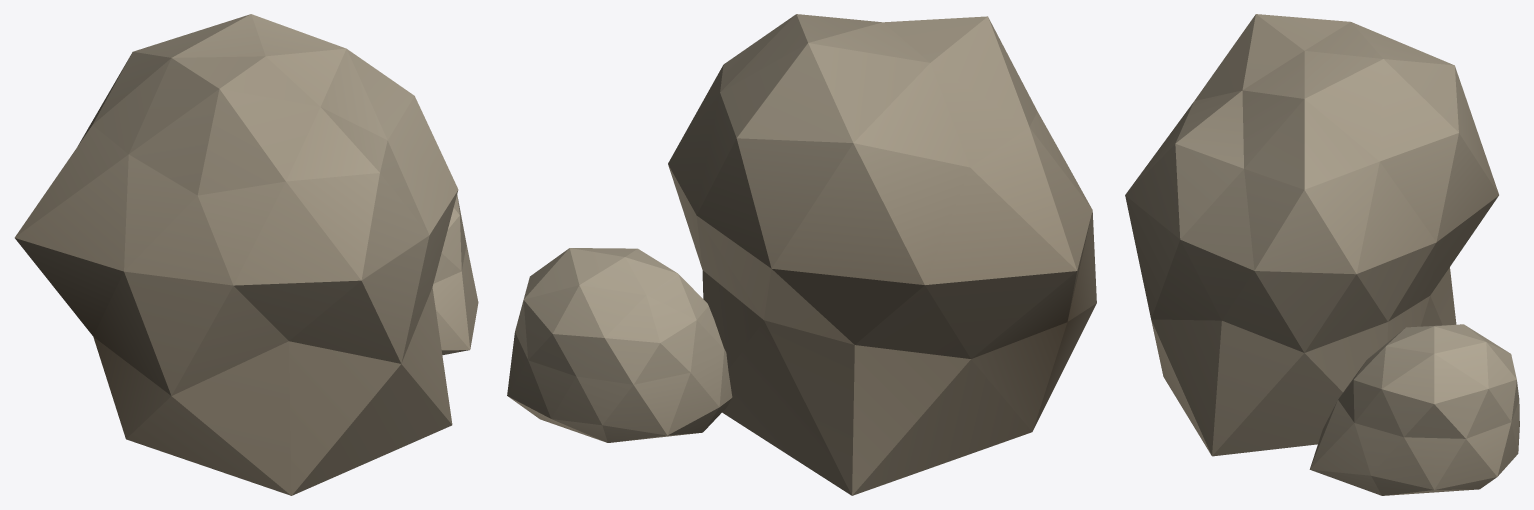
File: env_river_rock_river_dry_01.glb
3 renders of one model, left to right at view 1: azimuth 30°, elevation 25°; view 2: azimuth 150°, elevation 25°; view 3: azimuth 270°, elevation 25°, orthographic. The views are drawn at different scales.
Visible parts, largest first — view 1: rock_river_dry_01; view 2: rock_river_dry_01; view 3: rock_river_dry_01.
Boxes of the visible parts, left/top/right/bottom form: rock_river_dry_01: left=14, top=14, right=478, bottom=495; rock_river_dry_01: left=507, top=14, right=1096, bottom=495; rock_river_dry_01: left=1125, top=14, right=1519, bottom=495.
Bounding box in the file's own units: 0.5628 × 0.4612 × 0.4257.
